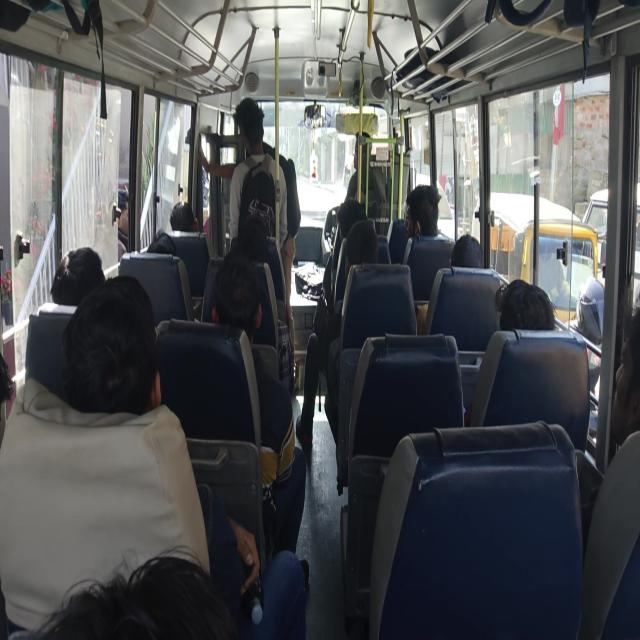person: (73, 294, 212, 451), (24, 548, 251, 640), (572, 319, 640, 459), (42, 232, 108, 324), (491, 283, 550, 378), (268, 138, 313, 242), (212, 265, 269, 337), (232, 100, 284, 169), (163, 197, 219, 242), (147, 228, 188, 276), (348, 231, 387, 279), (234, 240, 266, 292), (405, 198, 437, 250), (448, 239, 497, 269), (328, 195, 356, 229), (242, 218, 261, 238)
